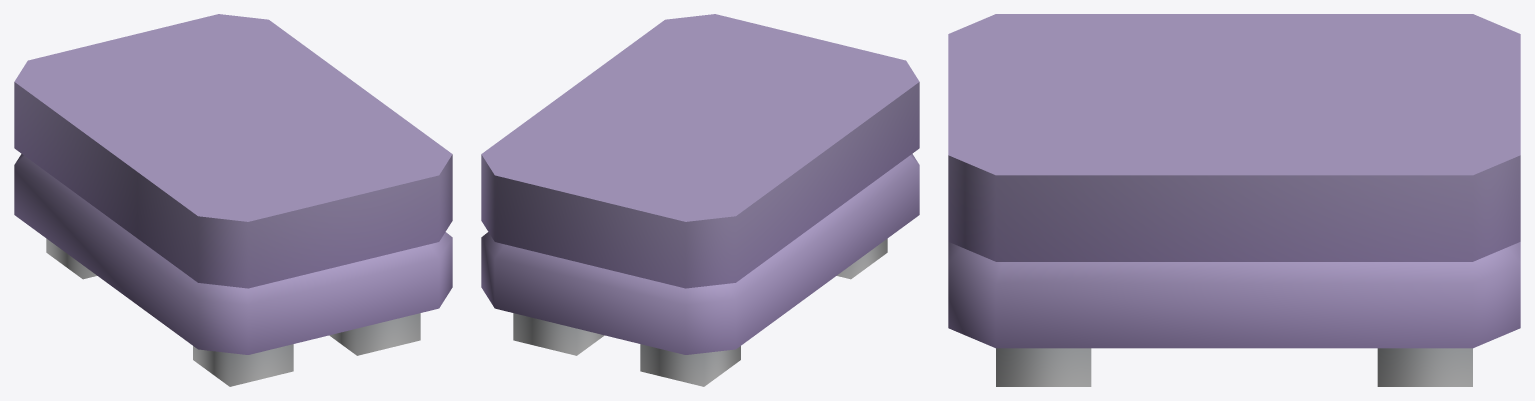
Rendered from stockholm-ottoman.glb.
3 views of the same model, side by side, from view 1: azimuth 30°, elevation 25°; view 2: azimuth 150°, elevation 25°; view 3: azimuth 270°, elevation 25° (orthographic). The views are drawn at different scales.
Visible parts, largest first — view 1: stockholm-ottoman; view 2: stockholm-ottoman; view 3: stockholm-ottoman.
Part boxes in pixels (box(x1,y1,x2,y2)): stockholm-ottoman: box(14, 14, 452, 386); stockholm-ottoman: box(481, 14, 919, 386); stockholm-ottoman: box(948, 14, 1520, 386).
Size of the model in its own units: 0.4 by 0.268 by 0.6.
